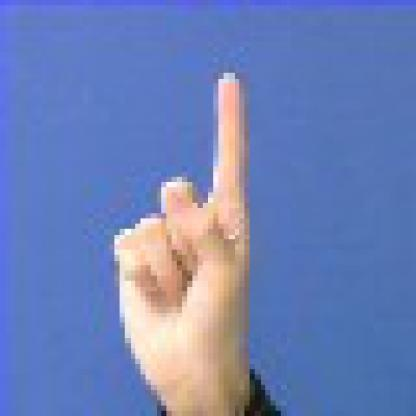one: (93, 65, 271, 402)
